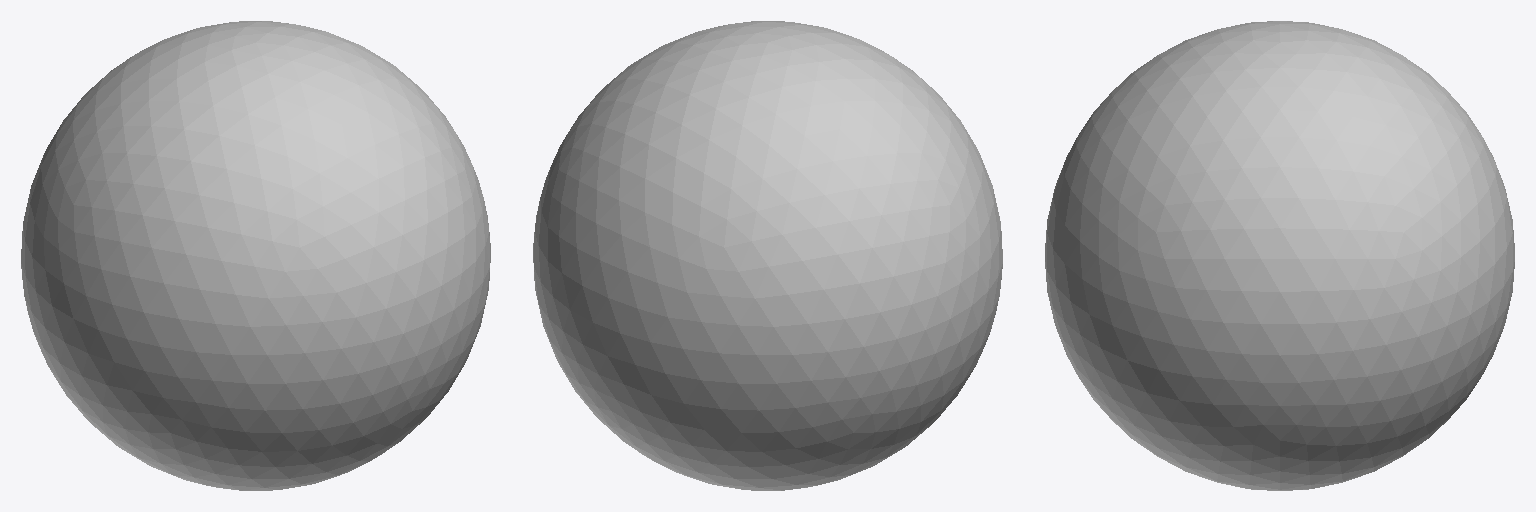
The model's file is skybox_sphere.obj.
3 renders of one model, left to right at view 1: azimuth 30°, elevation 25°; view 2: azimuth 150°, elevation 25°; view 3: azimuth 270°, elevation 25°, orthographic.
Visible parts, largest first — view 1: Sphere; view 2: Sphere; view 3: Sphere.
Boxes of the visible parts, <box> form: Sphere: <box>21,21,490,490</box>; Sphere: <box>533,21,1002,490</box>; Sphere: <box>1045,21,1514,490</box>.
Bounding box in the file's own units: 2 × 2 × 2.